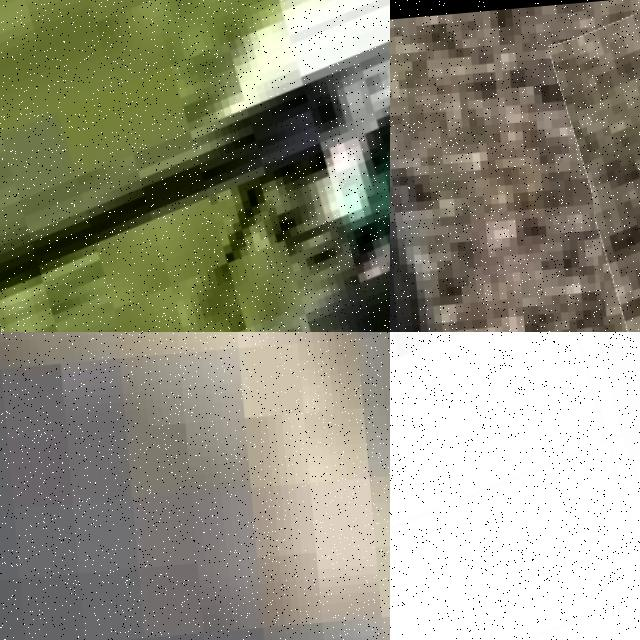drone: (0, 0, 390, 332), (390, 332, 640, 640), (575, 0, 640, 332)
